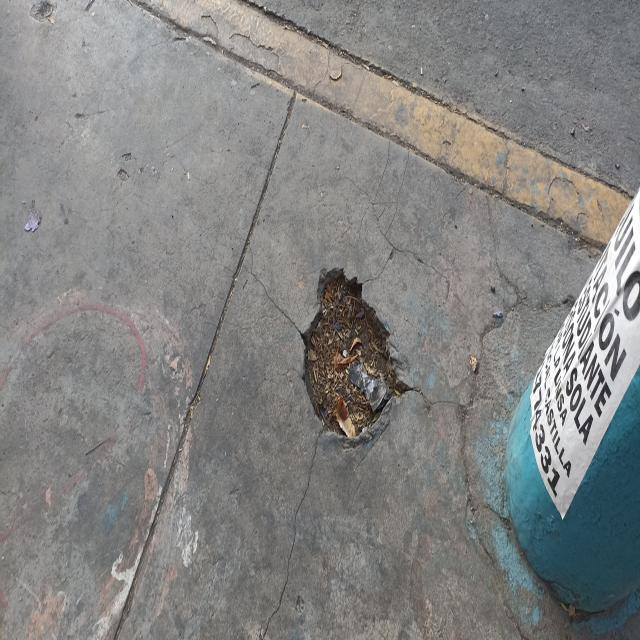hole: (300, 265, 421, 450)
